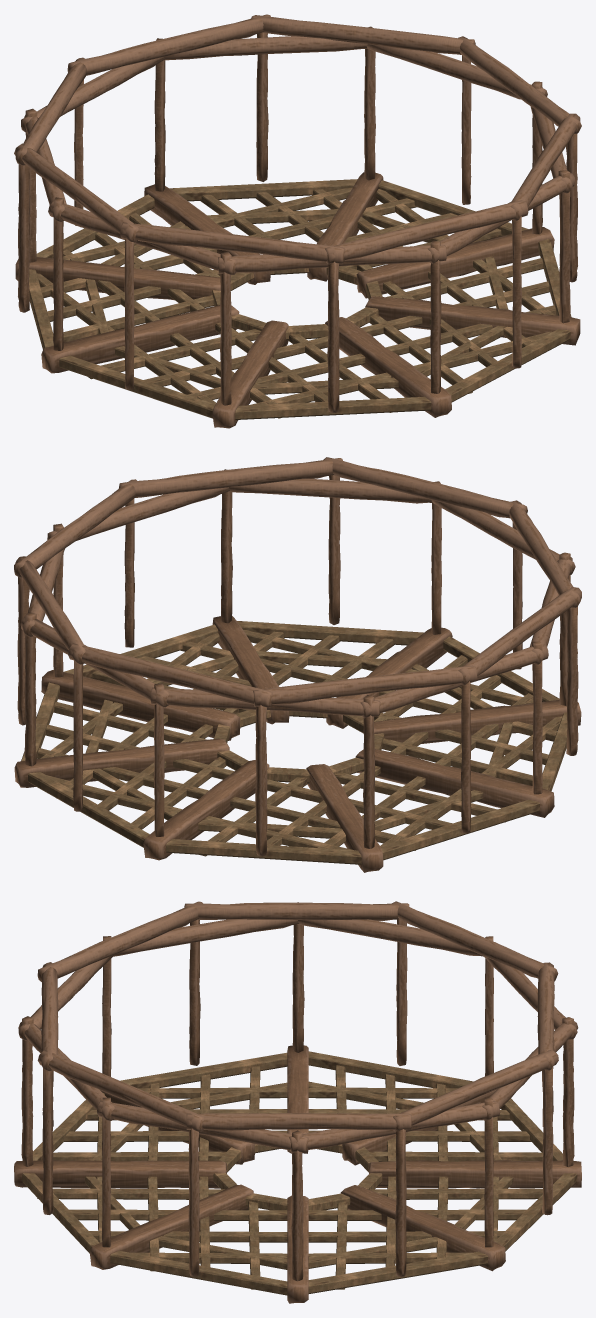
Rendered from SM_platform_02.fbx.
3 views of the same model, one above another, from view 1: azimuth 30°, elevation 25°; view 2: azimuth 150°, elevation 25°; view 3: azimuth 270°, elevation 25° (orthographic). The views are drawn at different scales.
Visible parts, largest first — view 1: platform_02; view 2: platform_02; view 3: platform_02.
Boxes of the visible parts, bbox=[...] form: platform_02: bbox=[14, 14, 581, 428]; platform_02: bbox=[14, 457, 581, 872]; platform_02: bbox=[14, 901, 581, 1303].
Bounding box in the file's own units: 799 × 273 × 799.
